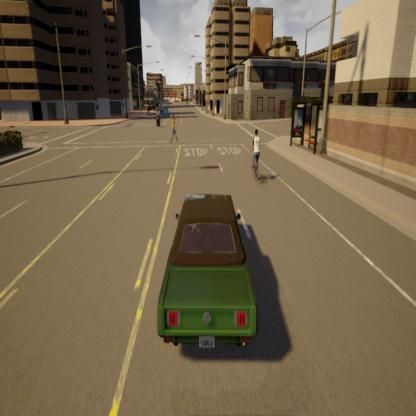Cars: (148, 183, 272, 372)
Pedestrian: (168, 107, 181, 149)
